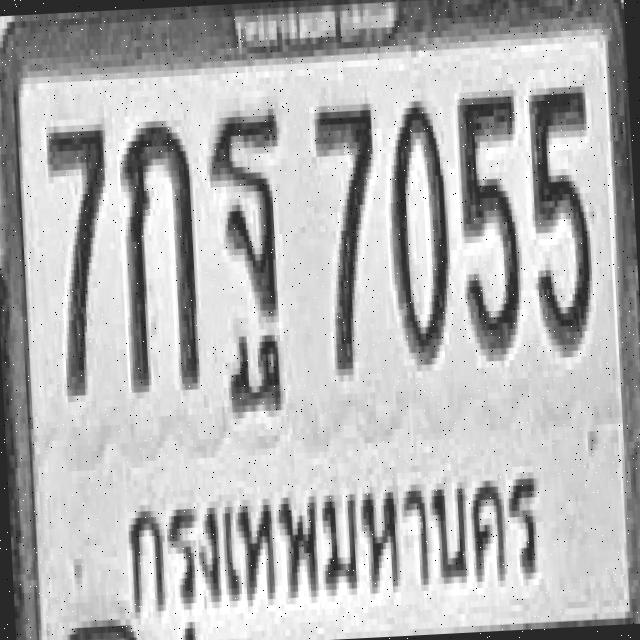0: (385, 97, 453, 363)
10GorGai: (117, 113, 205, 400)
25ThorThan: (205, 103, 294, 418)
5: (526, 80, 598, 352), (456, 90, 526, 356)
7: (314, 100, 384, 374), (46, 124, 116, 397)
Bangkok: (114, 445, 552, 640)
